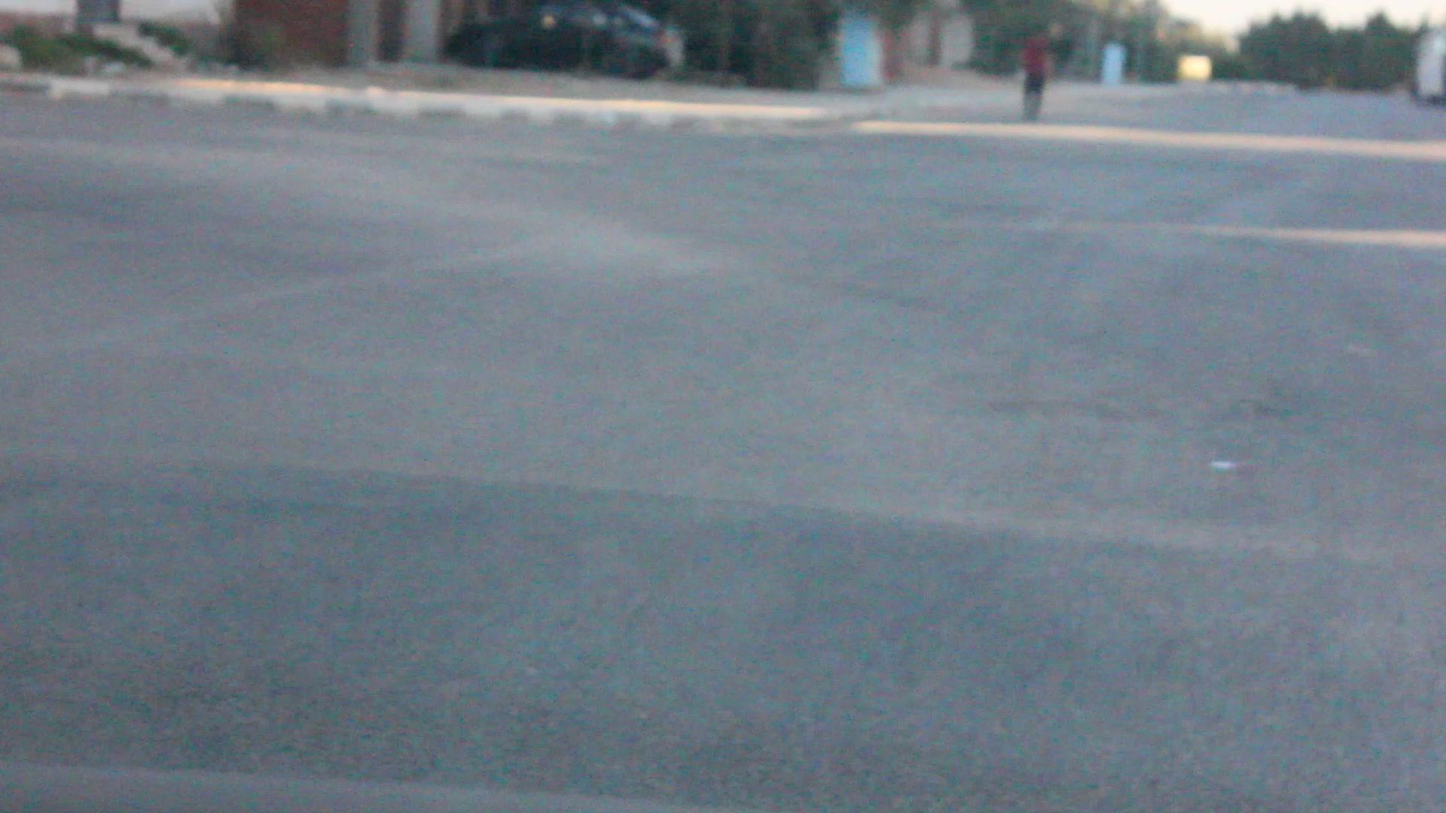Bump: (17, 350, 1446, 777)
